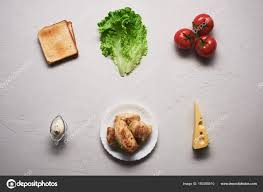Lettuce: (96, 10, 157, 72)
Tomato: (175, 12, 219, 61)
